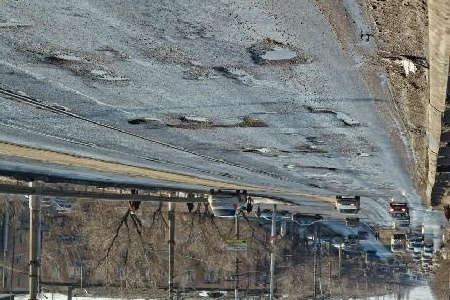pothole: (41, 53, 130, 84), (246, 38, 309, 68), (302, 103, 363, 128), (212, 64, 250, 82), (236, 143, 275, 158), (166, 122, 220, 131), (238, 114, 270, 129), (178, 114, 215, 125), (298, 142, 328, 155), (126, 116, 149, 127), (355, 152, 372, 160), (281, 163, 296, 171)
